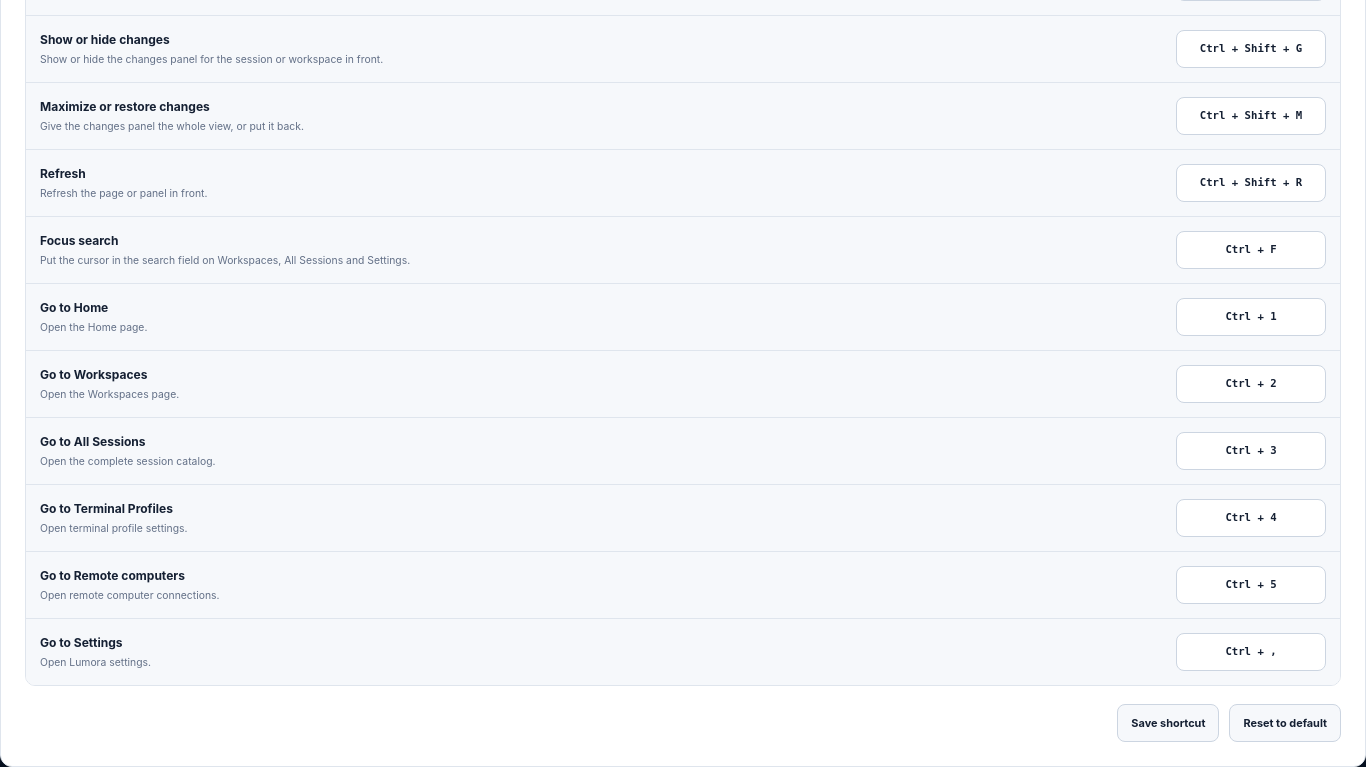
Test case: KeyboardShortcutsPanel › does not persist duplicate shortcuts loaded from older settings
The width and height of the screenshot is (1366, 767).
(page scrolled)
Click the button "Save shortcut".
click(1168, 723)  # box [1117,704,1219,742]
(page scrolled)
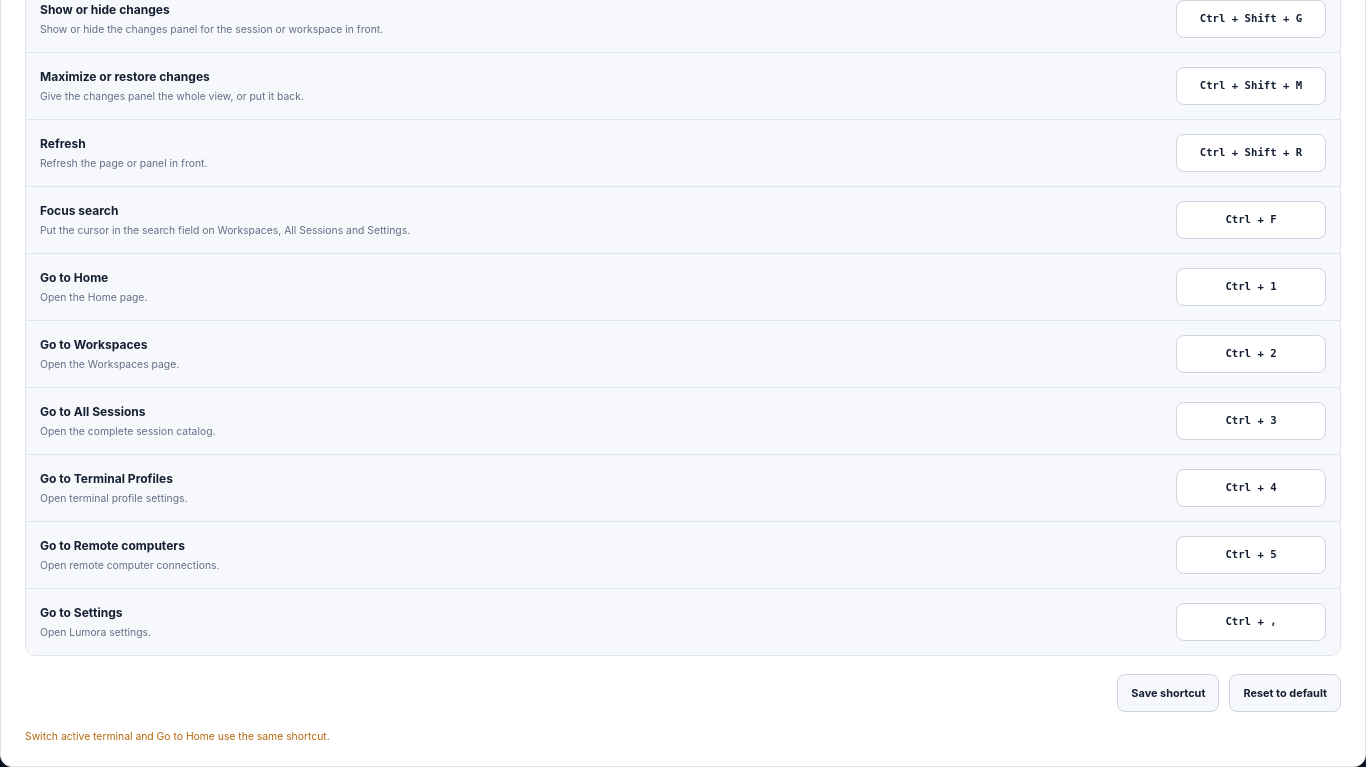
Expected: the message shows "Switch active terminal and Go to Home", [25,730,330,742]
